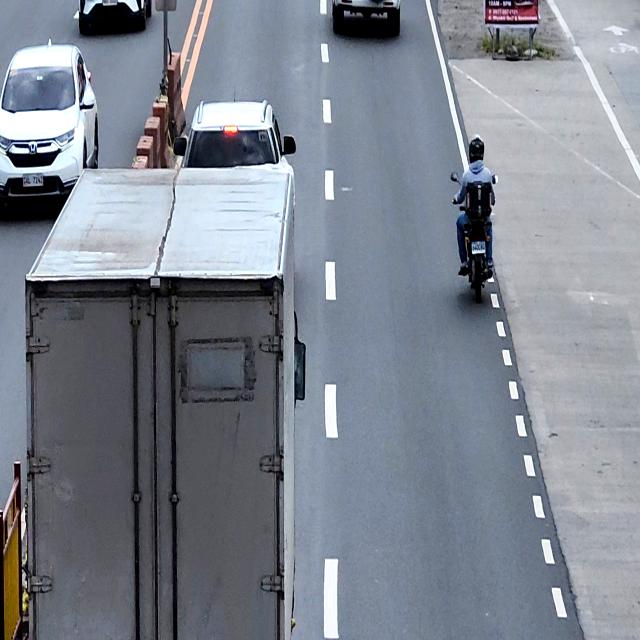Car: (0, 38, 99, 214), (173, 98, 296, 168), (77, 0, 151, 34)
License-Plate: (22, 173, 44, 187), (471, 240, 486, 255), (102, 0, 119, 6)
Motorcycle: (451, 171, 498, 303)
Truck: (22, 162, 307, 640)
